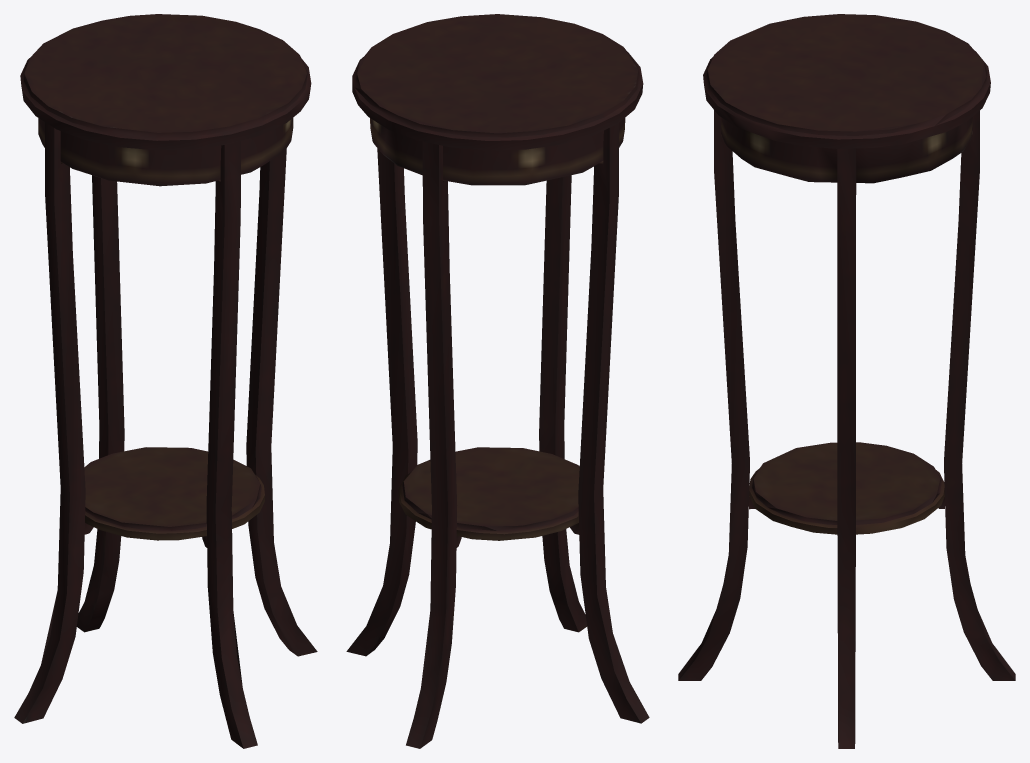
Rendered from side_table_tall_01.fbx.
3 views of the same model, side by side, from view 1: azimuth 30°, elevation 25°; view 2: azimuth 150°, elevation 25°; view 3: azimuth 270°, elevation 25° (orthographic).
Parts seen in each view (by area): view 1: side_table_tall_01; view 2: side_table_tall_01; view 3: side_table_tall_01.
Part boxes in pixels (x1,y1,x2,y2): side_table_tall_01: [14, 14, 317, 748]; side_table_tall_01: [346, 14, 649, 748]; side_table_tall_01: [678, 14, 1015, 748].
Bounding box in the file's own units: 0.3837 × 0.7599 × 0.3837.
